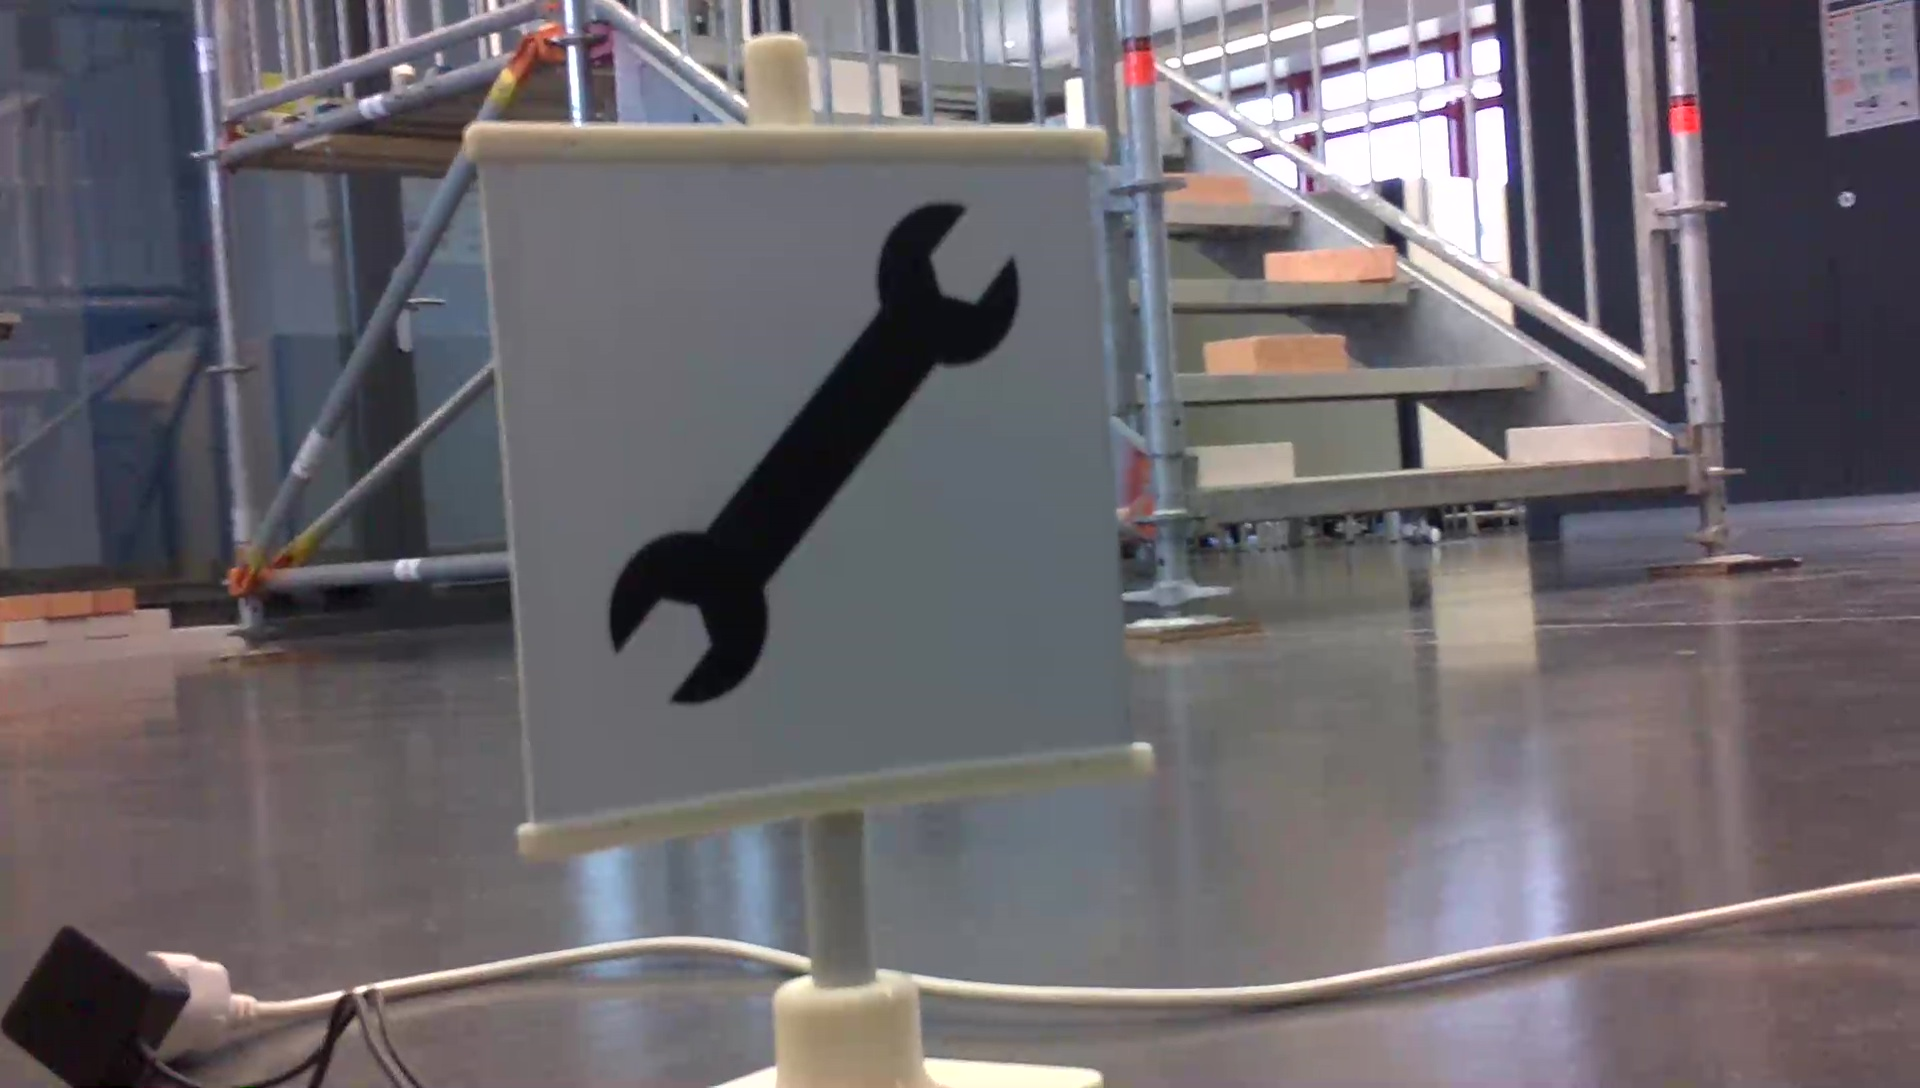brick: (1507, 421, 1647, 462), (1205, 338, 1342, 375), (1262, 247, 1393, 281), (1195, 446, 1294, 481), (1168, 171, 1247, 203)
edge: (1203, 460, 1696, 524), (1178, 361, 1549, 402), (1168, 278, 1420, 305), (1164, 196, 1305, 226)
wrench: (603, 195, 1027, 715)
